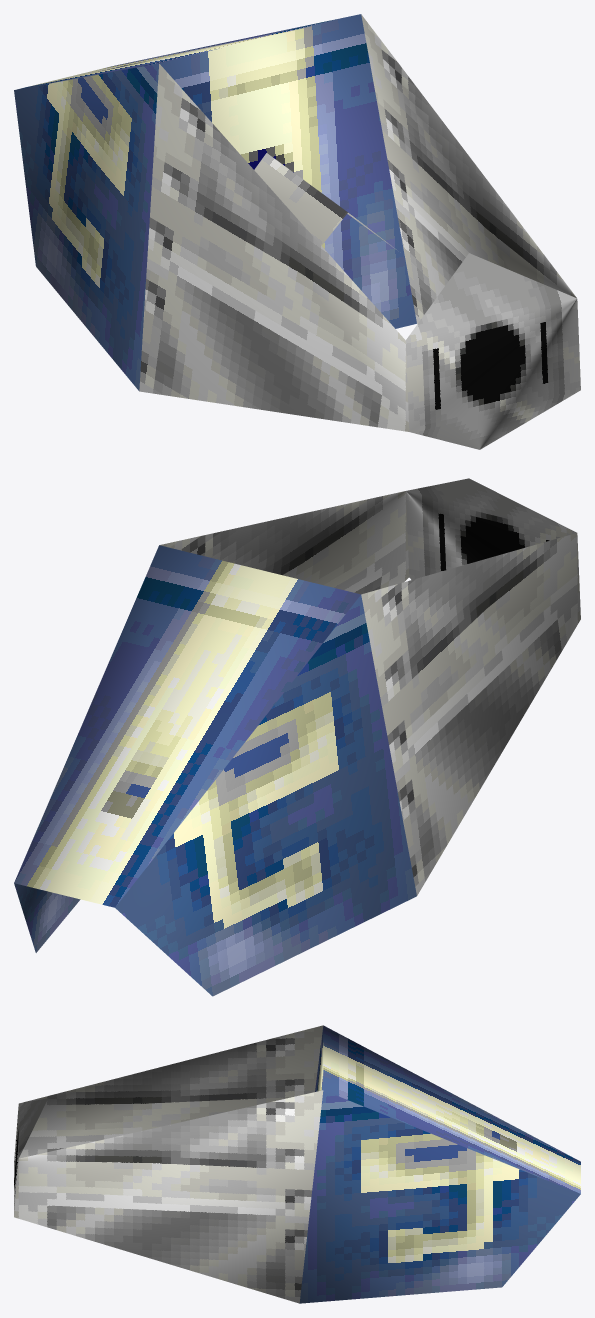
File: MobileWallLaserTurretZ_Anim.glb
3 renders of one model, top to bottom at view 1: azimuth 30°, elevation 25°; view 2: azimuth 150°, elevation 25°; view 3: azimuth 270°, elevation 25°, orthographic. The views are drawn at different scales.
Visible parts, largest first — view 1: MobileWallLaserTurretZ_Anim_part00; view 2: MobileWallLaserTurretZ_Anim_part00; view 3: MobileWallLaserTurretZ_Anim_part00.
Boxes of the visible parts, <box> form: MobileWallLaserTurretZ_Anim_part00: <box>14,14,580,449</box>; MobileWallLaserTurretZ_Anim_part00: <box>14,478,580,996</box>; MobileWallLaserTurretZ_Anim_part00: <box>14,1025,580,1303</box>.
Bounding box in the file's own units: 4.45 × 4.69 × 11.97.
Materials: 5 (5 with a texture image).
